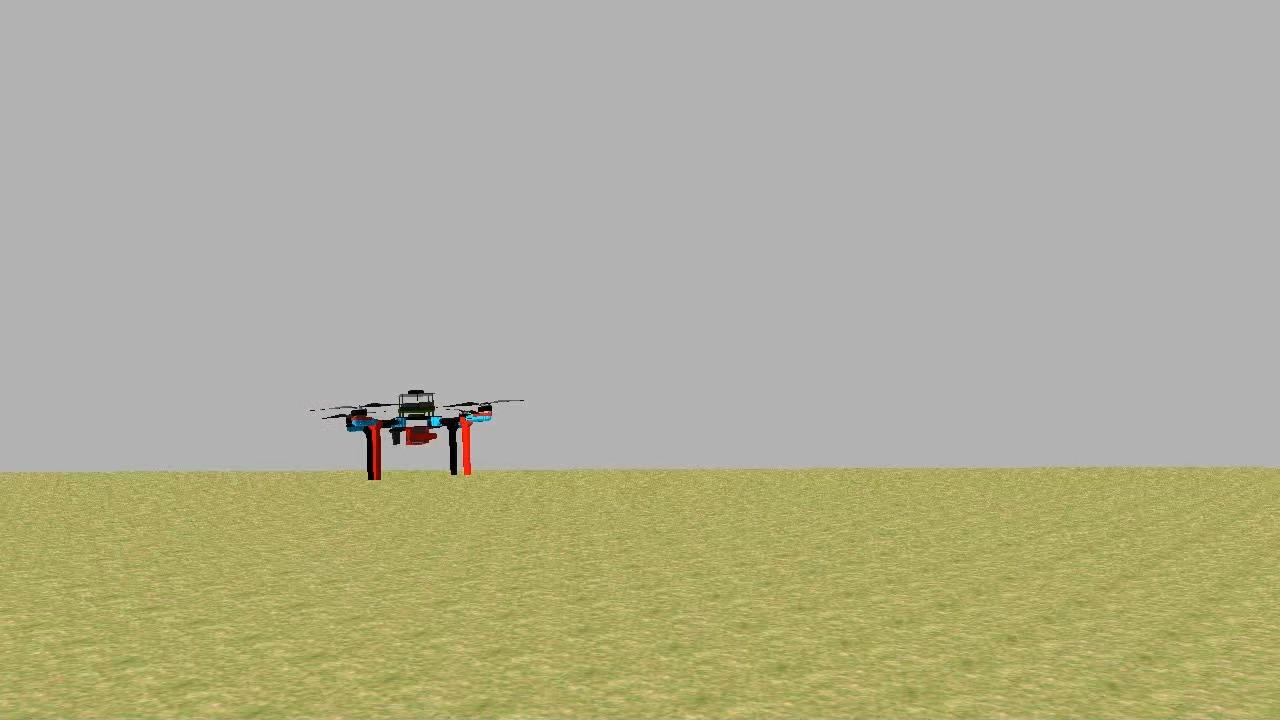UAV: (337, 377, 502, 487)
